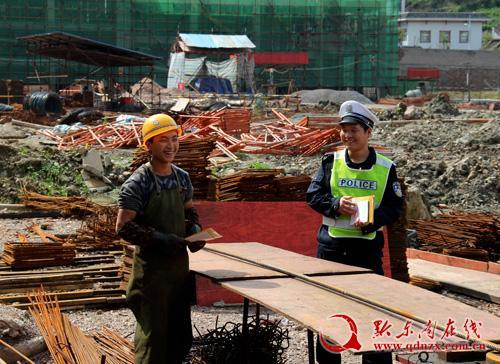helmet: (142, 115, 183, 148)
